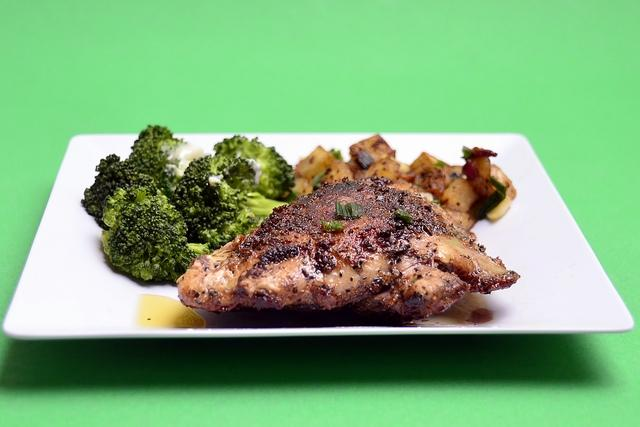broccoli: (101, 194, 210, 283), (172, 171, 290, 249), (80, 155, 164, 231), (214, 136, 295, 200), (126, 124, 188, 186), (182, 154, 256, 196), (101, 183, 152, 229)
potato: (462, 148, 498, 196), (349, 134, 396, 170), (297, 146, 335, 184), (440, 178, 480, 213), (412, 166, 451, 197), (410, 152, 455, 176), (319, 159, 355, 185), (364, 156, 401, 180), (486, 196, 512, 222), (288, 176, 314, 196), (490, 165, 512, 188), (417, 192, 434, 202), (450, 166, 462, 176)
